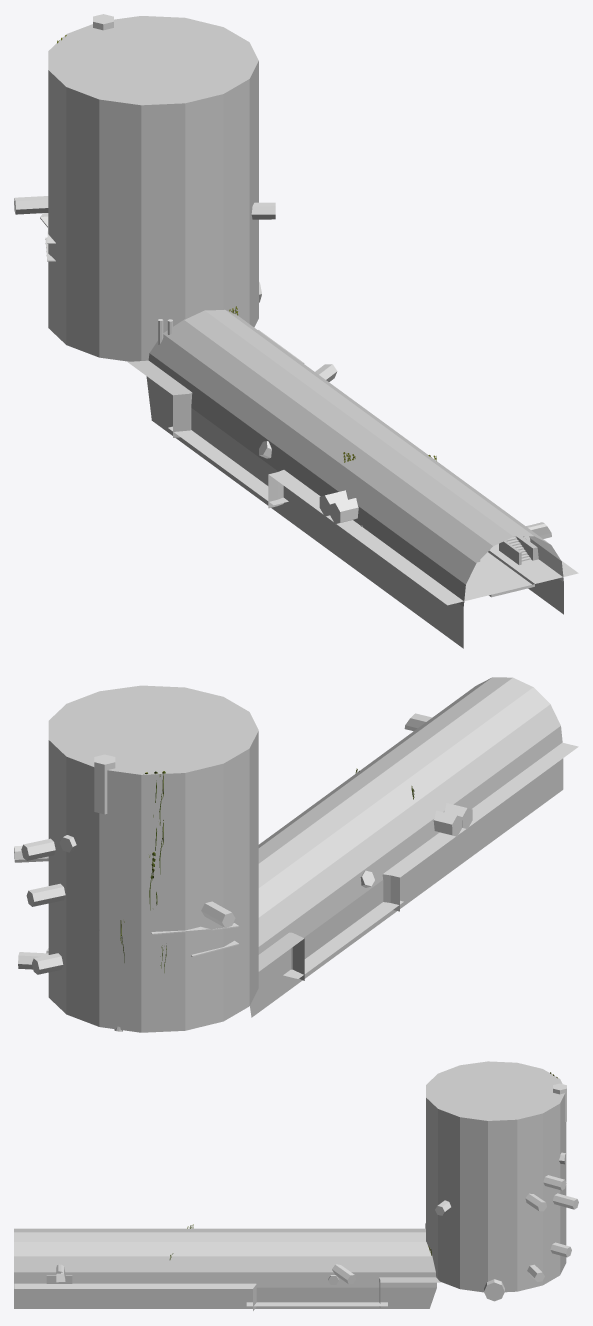
Rendered from floor0.fbx.
The picture shows the model from 3 angles, top to bottom: view 1: azimuth 30°, elevation 25°; view 2: azimuth 150°, elevation 25°; view 3: azimuth 270°, elevation 25°; orthographic projection. The views are drawn at different scales.
Visible parts, largest first — view 1: Plane.002, Cylinder, Plane, Plane.001, Cube; view 2: Plane.002, Cylinder, Plane, Plane.001, tube.016, tube.011, tube.002, tube.013, tube.014, tube.009; view 3: Cylinder, Plane.002, Plane, Plane.001, Cylinder.001.
Boxes of the visible parts, <box> form: Plane.002: <box>48,16,304,437</box>; Cylinder: <box>146,309,563,648</box>; Plane: <box>268,470,578,605</box>; Plane.001: <box>168,426,288,505</box>; Cube: <box>499,536,538,565</box>; Plane.002: <box>48,685,304,1032</box>; Cylinder: <box>250,677,563,1017</box>; Plane: <box>382,742,578,911</box>; Plane.001: <box>283,900,403,978</box>; tube.016: <box>94,754,115,814</box>; tube.011: <box>26,883,65,906</box>; tube.002: <box>433,810,462,836</box>; tube.013: <box>21,838,55,860</box>; tube.014: <box>201,901,235,927</box>; tube.009: <box>32,953,63,974</box>; Cylinder: <box>14,1228,436,1308</box>; Plane.002: <box>379,1061,566,1307</box>; Plane: <box>14,1283,256,1310</box>; Plane.001: <box>246,1302,387,1306</box>; Cylinder.001: <box>484,1279,504,1301</box>.
Bounding box in the file's own units: 8943 × 12563 × 30360.
